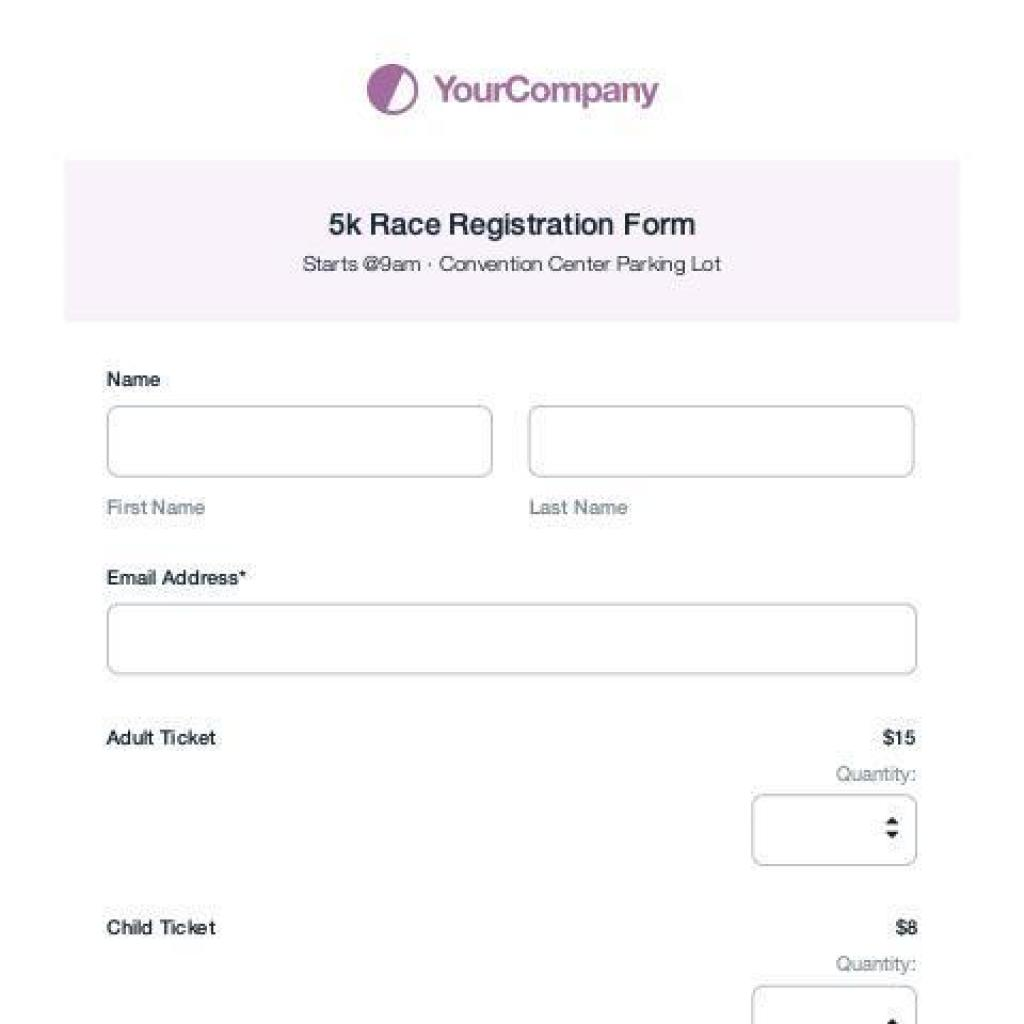dropdown: (749, 796, 919, 864)
input: (104, 602, 918, 680), (107, 399, 497, 478), (527, 401, 917, 478)
label: (98, 909, 218, 943), (96, 561, 252, 587), (94, 728, 226, 758), (525, 490, 640, 524), (107, 493, 211, 520), (819, 760, 920, 787), (100, 360, 169, 392), (824, 958, 922, 975)
